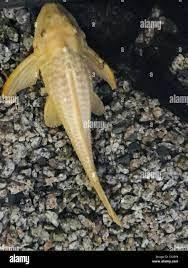Janitor Fish: (0, 0, 135, 231)
